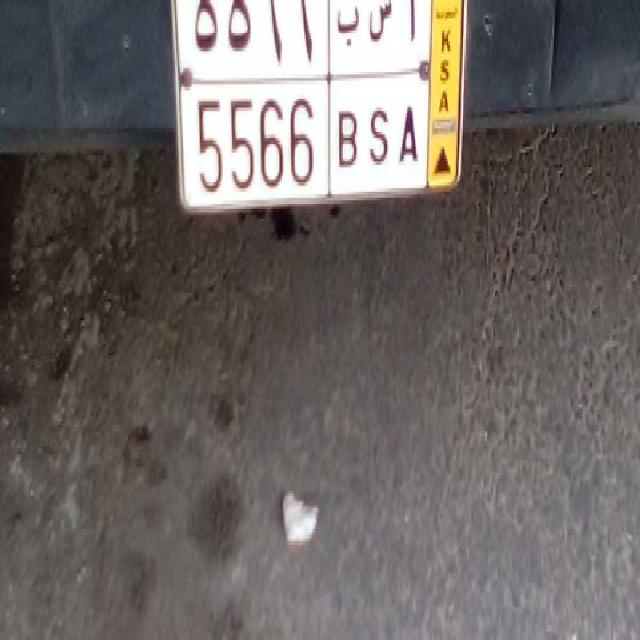license_plate: (183, 71, 429, 202)
